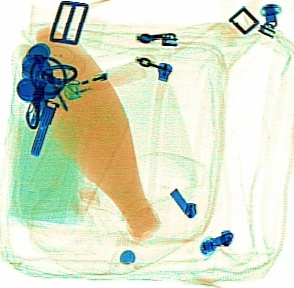lighter: (58, 57, 147, 101)
